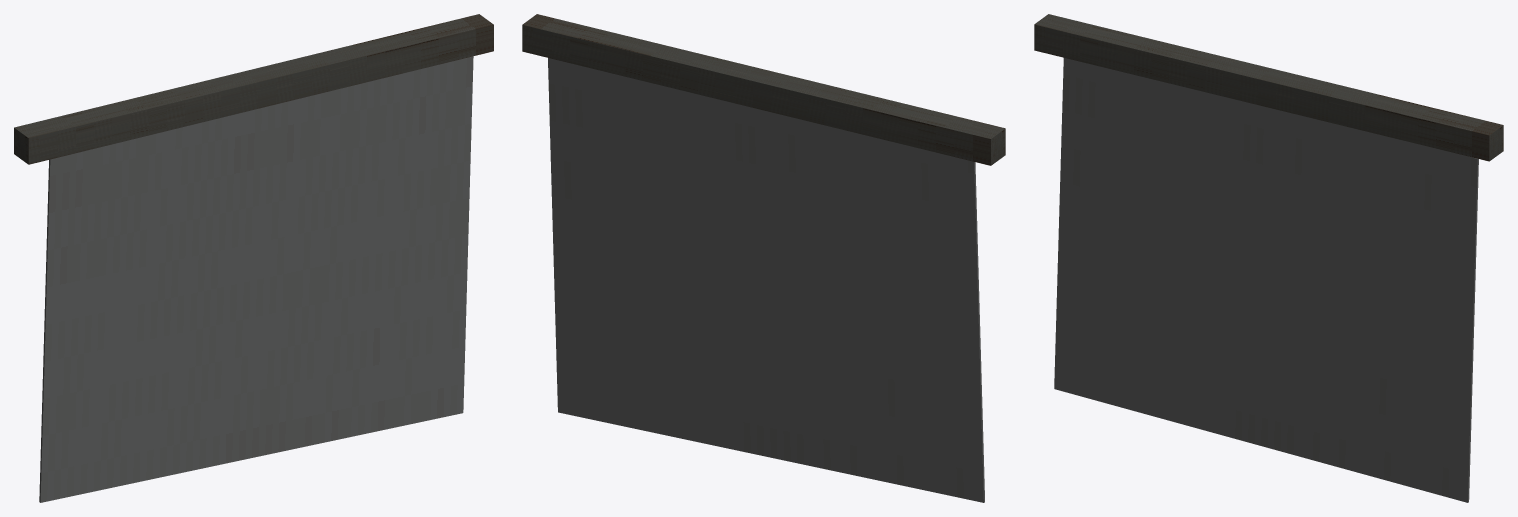
File: prop_screen_roll.glb
3 renders of one model, left to right at view 1: azimuth 30°, elevation 25°; view 2: azimuth 150°, elevation 25°; view 3: azimuth 330°, elevation 25°, orthographic. The views are drawn at different scales.
Parts seen in each view (by area): view 1: prop_screen_roll; view 2: prop_screen_roll; view 3: prop_screen_roll.
Boxes of the visible parts, <box> form: prop_screen_roll: <box>14,14,493,502</box>; prop_screen_roll: <box>522,14,1005,502</box>; prop_screen_roll: <box>1034,14,1503,502</box>.
Size of the model in its own units: 2.2 by 1.74 by 0.12.
Materials: 2 (2 with a texture image).
